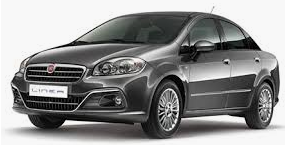car: (8, 6, 281, 142)
